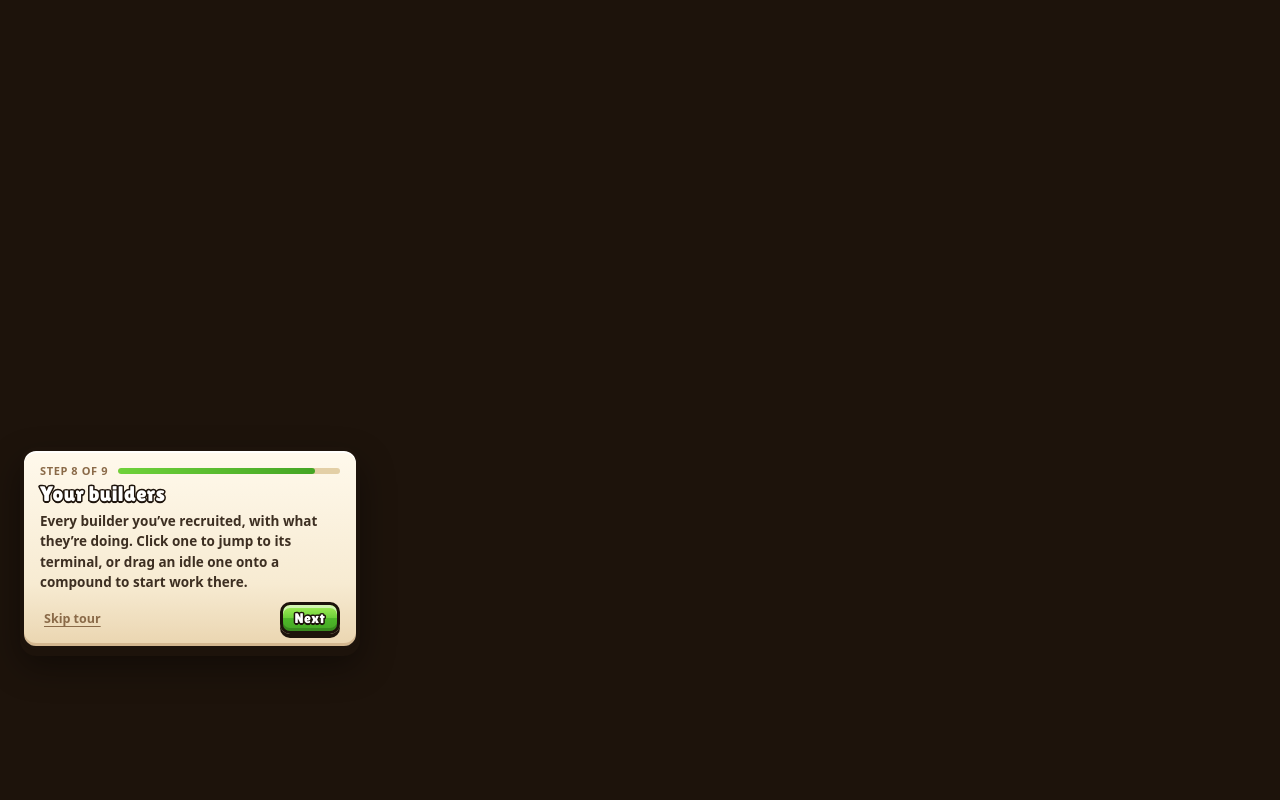
Test: the coach › ends on the team: where it is set up, and that it is off until then
What coordinates should you click on to do the following:
click the button "Next"
I would click on:
 (310, 618)
Its box is [280,602,340,634].
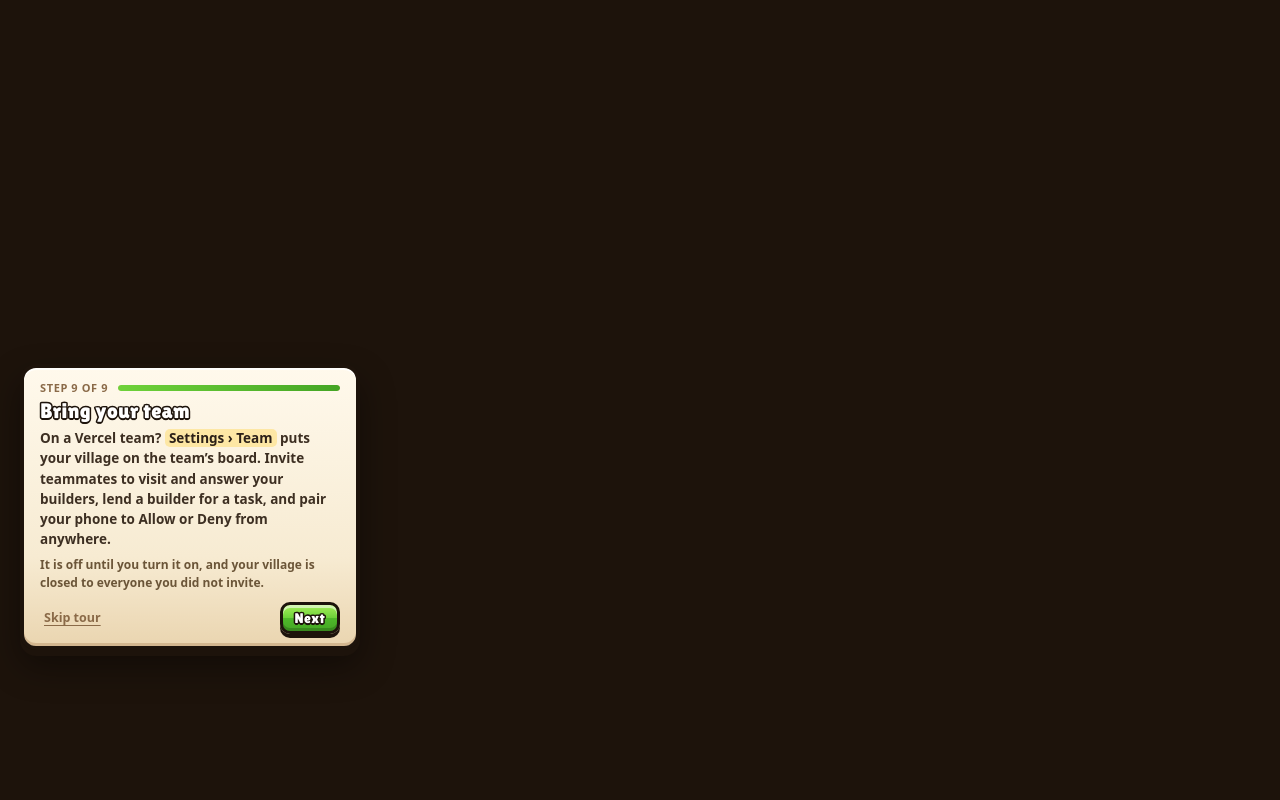
expect the heading "Bring your team" is shown: met, box [40,399,190,423]
expect the text "Settings › Team" is shown: met, box [165,429,276,447]
expect the text "off until you turn it on" is shown: met, box [40,556,315,591]
